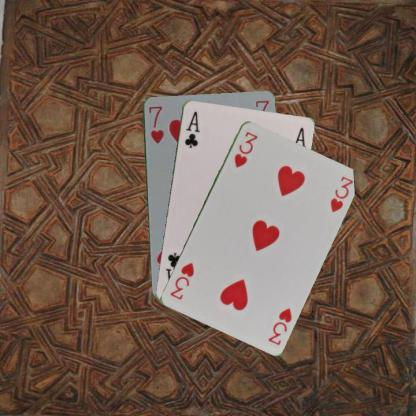3h: (265, 304, 293, 347), (231, 128, 260, 169)
7h: (146, 103, 164, 144)
Ac: (181, 109, 201, 149)
